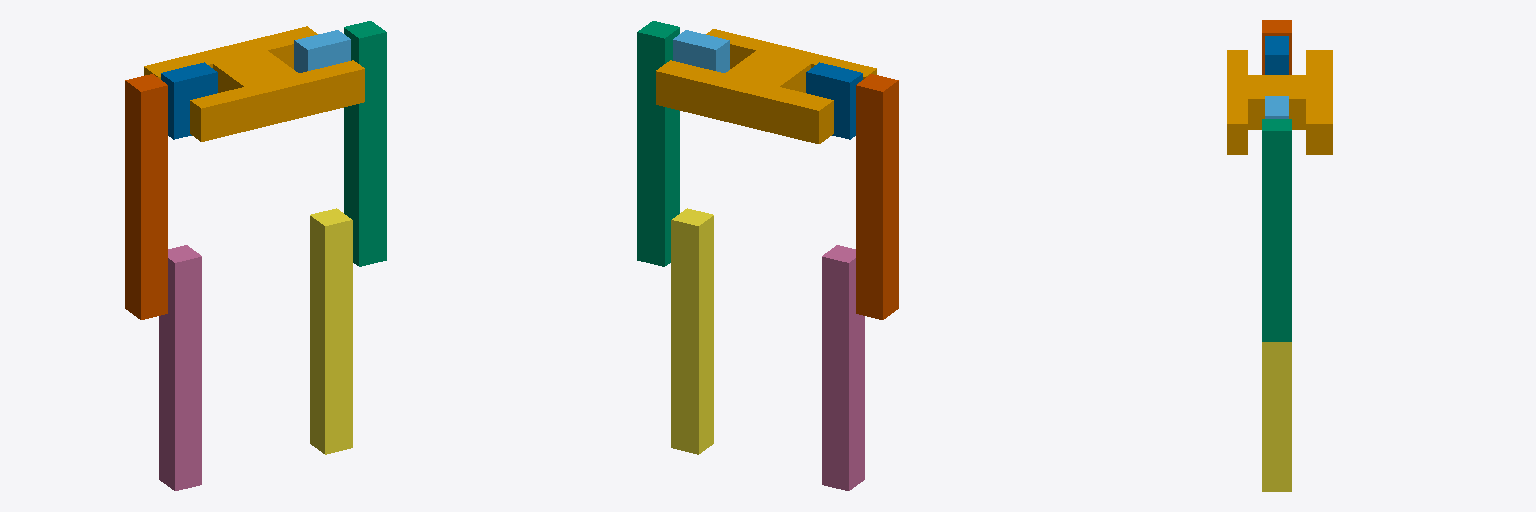
The robot description file, URDF, robot "bipedal":
<?xml version="1.0"?>
<robot name="bipedal">

  <!-- core -->
  <link name="core">
   <visual>
     <geometry>
       <mesh filename="core.stl"/>
     </geometry>
     <origin rpy="0 0 0" xyz="0 0 -5"/>
   </visual>
   <collision>
     <geometry>
       <mesh filename="core.stl"/>
     </geometry>
     <origin rpy="0 0 0" xyz="0 0 0"/>
   </collision>
   <inertial>
     <mass value="10"/>
     <inertia ixx="1" iyy="1" izz="1"/>
   </inertial>
  </link>

  <!-- left leg -->

  <joint name="core_left_hip" type="revolute">
    <axis xyz="0 1 0"/>
    <limit effort="1000.0" lower="0.0" upper="3.14159" velocity="0.5"/>
    <parent link="core"/>
    <child link="left_hip"/>
    <origin xyz="3 0 0"/>
  </joint>

  <link name="left_hip">
    <visual>
      <geometry>
        <mesh filename="left_hip.stl"/>
      </geometry>
     <origin rpy="0 0 0" xyz="-3 0 -5"/>
    </visual>
    <collision>
      <geometry>
        <mesh filename="left_hip.stl"/>
      </geometry>
      <origin rpy="0 0 0" xyz="-3 0 -5"/>
    </collision>
    <inertial>
      <mass value="10"/>
      <inertia ixx="1" iyy="1" izz="1"/>
    </inertial>
  </link>

  <joint name="left_hip_left_leg_top" type="revolute">
    <axis xyz="1 0 0"/>
    <limit effort="1000.0" lower="0.0" upper="3.14159" velocity="0.5"/>
    <parent link="left_hip"/>
    <child link="left_leg_top"/>
    <origin xyz="0 0 0"/>
  </joint>

  <link name="left_leg_top">
    <visual>
      <geometry>
        <mesh filename="left_leg_top.stl"/>
      </geometry>
     <origin rpy="0 0 0" xyz="-3 0 -5"/>
    </visual>
    <collision>
      <geometry>
        <mesh filename="left_leg_top.stl"/>
      </geometry>
     <origin rpy="0 0 0" xyz="-3 0 -5"/>
    </collision>
    <inertial>
      <mass value="10"/>
      <inertia ixx="1" iyy="1" izz="1"/>
    </inertial>
  </link>

  <joint name="left_leg_top_left_leg_bottom" type="revolute">
    <axis xyz="1 0 0"/>
    <limit effort="1000.0" lower="0.0" upper="3.14159" velocity="0.5"/>
    <parent link="left_leg_top"/>
    <child link="left_leg_bottom"/>
    <origin xyz="0 0 -5"/>
  </joint>

  <link name="left_leg_bottom">
    <visual>
      <geometry>
        <mesh filename="left_leg_bottom.stl"/>
      </geometry>
     <origin rpy="0 0 0" xyz="-3 0 0"/>
    </visual>
    <collision>
      <geometry>
        <mesh filename="left_leg_bottom.stl"/>
      </geometry>
     <origin rpy="0 0 0" xyz="-3 0 0"/>
    </collision>
    <inertial>
      <mass value="10"/>
      <inertia ixx="1" iyy="1" izz="1"/>
    </inertial>
  </link>

  <!-- right leg -->

  <joint name="core_right_hip" type="revolute">
    <axis xyz="0 1 0"/>
    <limit effort="1000.0" lower="0.0" upper="3.14159" velocity="0.5"/>
    <parent link="core"/>
    <child link="right_hip"/>
    <origin xyz="-3 0 0"/>
  </joint>

 <link name="right_hip">
   <visual>
     <geometry>
       <mesh filename="right_hip.stl"/>
     </geometry>
     <origin rpy="0 0 0" xyz="3 0 -5"/>
   </visual>
   <collision>
     <geometry>
       <mesh filename="right_hip.stl"/>
     </geometry>
     <origin rpy="0 0 0" xyz="3 0 -5"/>
   </collision>
   <inertial>
     <mass value="10"/>
     <inertia ixx="1" iyy="1" izz="1"/>
   </inertial>
 </link>

 <joint name="right_hip_right_leg_top" type="revolute">
   <axis xyz="1 0 0"/>
   <limit effort="1000.0" lower="0.0" upper="3.14159" velocity="0.5"/>
   <parent link="right_hip"/>
   <child link="right_leg_top"/>
   <origin xyz="0 0 0"/>
 </joint>

 <link name="right_leg_top">
   <visual>
     <geometry>
       <mesh filename="right_leg_top.stl"/>
     </geometry>
    <origin rpy="0 0 0" xyz="3 0 -5"/>
   </visual>
   <collision>
     <geometry>
       <mesh filename="right_leg_top.stl"/>
     </geometry>
    <origin rpy="0 0 0" xyz="3 0 -5"/>
   </collision>
   <inertial>
     <mass value="10"/>
     <inertia ixx="1" iyy="1" izz="1"/>
   </inertial>
 </link>

 <joint name="right_leg_top_right_leg_bottom" type="revolute">
   <axis xyz="1 0 0"/>
   <limit effort="1000.0" lower="0.0" upper="3.14159" velocity="0.5"/>
   <parent link="right_leg_top"/>
   <child link="right_leg_bottom"/>
   <origin xyz="0 0 -5"/>
 </joint>

 <link name="right_leg_bottom">
   <visual>
     <geometry>
       <mesh filename="right_leg_bottom.stl"/>
     </geometry>
    <origin rpy="0 0 0" xyz="3 0 0"/>
   </visual>
   <collision>
     <geometry>
       <mesh filename="right_leg_bottom.stl"/>
     </geometry>
     <origin rpy="0 0 0" xyz="3 0 0"/>
   </collision>
   <inertial>
     <mass value="10"/>
     <inertia ixx="1" iyy="1" izz="1"/>
   </inertial>
 </link>


</robot>

--- Facts derived from the render (not from the file) ---
Views: 3 orthographic renders of the robot side by side, from view 1: azimuth 30°, elevation 25°; view 2: azimuth 150°, elevation 25°; view 3: azimuth 270°, elevation 25°.
Model bipedal with 7 links and 6 joints (6 revolute), rooted at core, posed all joints at 0.
Visible links, largest first — view 1: core, right_leg_top, left_leg_bottom, right_leg_bottom, left_leg_top, right_hip, left_hip; view 2: core, right_leg_top, left_leg_bottom, right_leg_bottom, left_leg_top, right_hip, left_hip; view 3: core, left_leg_top, left_leg_bottom, right_hip, right_leg_top, left_hip.
Link boxes in pixels (bbox=[...]): core: bbox=[144, 26, 364, 141]; right_leg_top: bbox=[125, 74, 167, 319]; left_leg_bottom: bbox=[310, 208, 352, 454]; right_leg_bottom: bbox=[159, 245, 201, 490]; left_leg_top: bbox=[344, 21, 386, 266]; right_hip: bbox=[161, 62, 217, 139]; left_hip: bbox=[294, 30, 350, 72]; core: bbox=[656, 29, 876, 143]; right_leg_top: bbox=[856, 74, 898, 319]; left_leg_bottom: bbox=[671, 208, 713, 454]; right_leg_bottom: bbox=[822, 245, 864, 490]; left_leg_top: bbox=[637, 21, 679, 266]; right_hip: bbox=[806, 62, 862, 139]; left_hip: bbox=[673, 30, 729, 72]; core: bbox=[1227, 50, 1332, 154]; left_leg_top: bbox=[1262, 119, 1291, 341]; left_leg_bottom: bbox=[1262, 342, 1291, 491]; right_hip: bbox=[1265, 36, 1288, 74]; right_leg_top: bbox=[1262, 20, 1291, 74]; left_hip: bbox=[1265, 96, 1288, 118].
Bounding box of the posed robot: 9 × 3.68 × 14.28 m (x, y, z).
Meshes: 7 distinct files referenced, 7 mesh visuals loaded (7 binary STL).